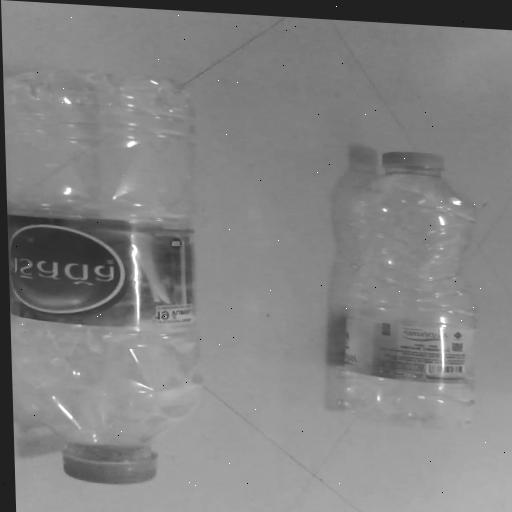bottle: (1, 28, 220, 512), (324, 152, 483, 430)
